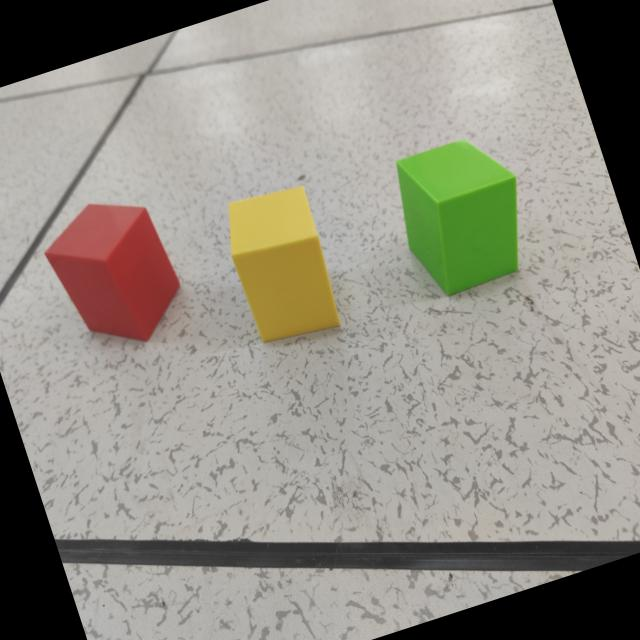green: (397, 140, 521, 298)
red: (45, 204, 181, 344)
yellow: (227, 184, 341, 344)
